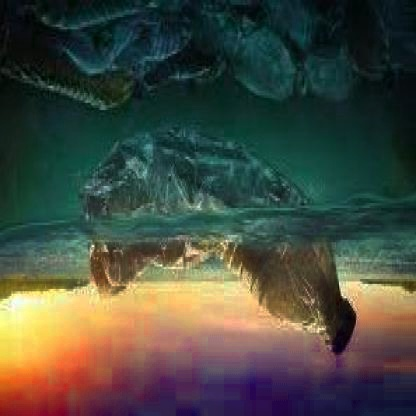pbottle: (78, 134, 370, 364), (192, 7, 302, 98), (1, 64, 144, 124), (325, 2, 396, 86), (39, 2, 147, 42)
